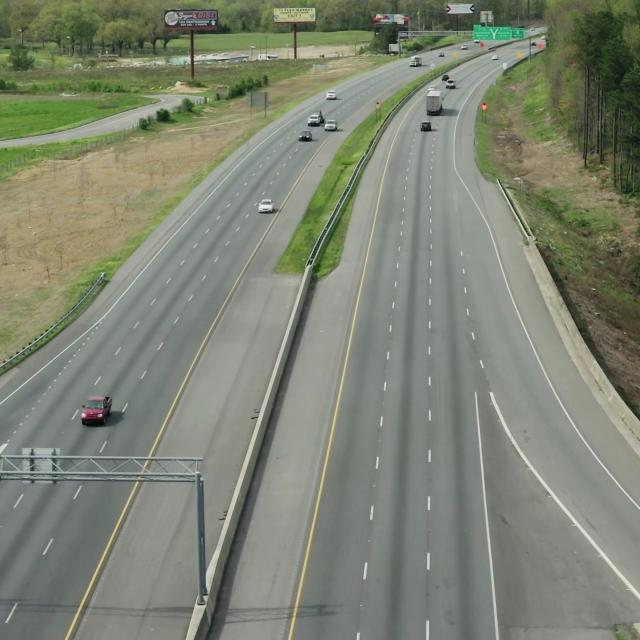Car: (80, 392, 117, 426), (254, 195, 277, 216)
